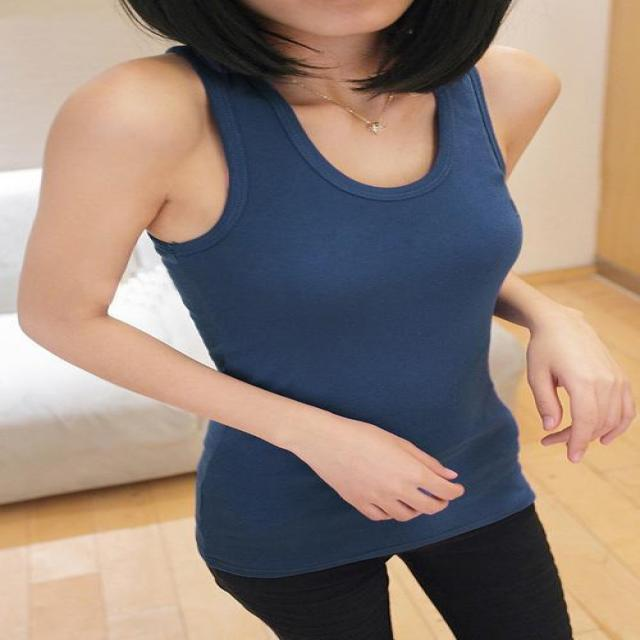trousers: (211, 482, 573, 638)
vest: (174, 42, 536, 566)
